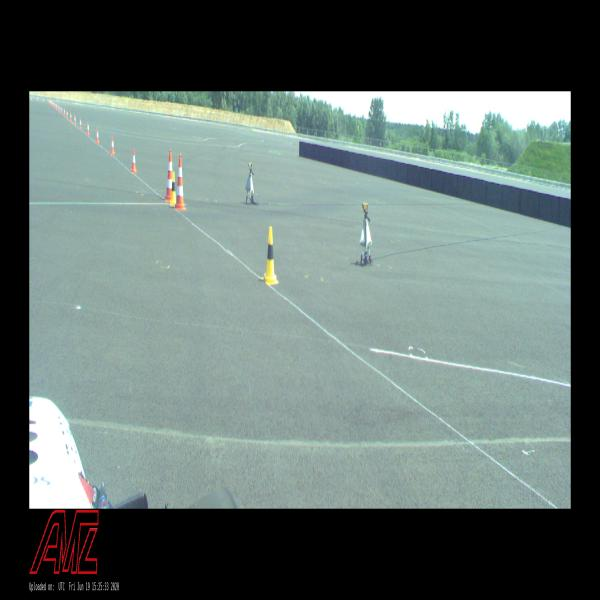large_orange_cone: (175, 154, 186, 210), (165, 150, 175, 200)
orange_cone: (131, 149, 137, 173), (110, 136, 115, 155), (86, 122, 90, 135), (96, 128, 99, 143), (69, 112, 72, 120), (79, 118, 81, 129), (74, 114, 76, 125), (66, 109, 68, 118), (64, 108, 66, 115), (59, 105, 61, 112), (60, 107, 62, 113), (54, 102, 56, 108), (56, 103, 57, 110), (58, 104, 59, 110)
yellow_cone: (262, 227, 278, 284), (170, 171, 178, 205)
